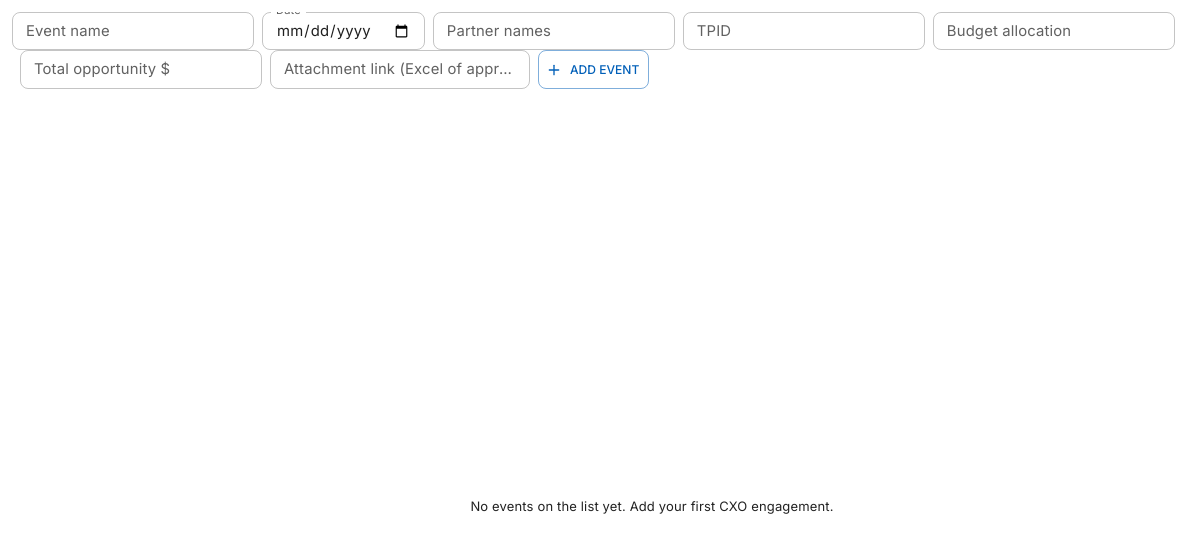
Test: QuarterlyEventsTile › blocks save with a friendly message for an invalid attachment link
The width and height of the screenshot is (1192, 544).
Type "CXO Dinner" into the field labelled "Event name" at (133, 31), box [12, 12, 254, 50]
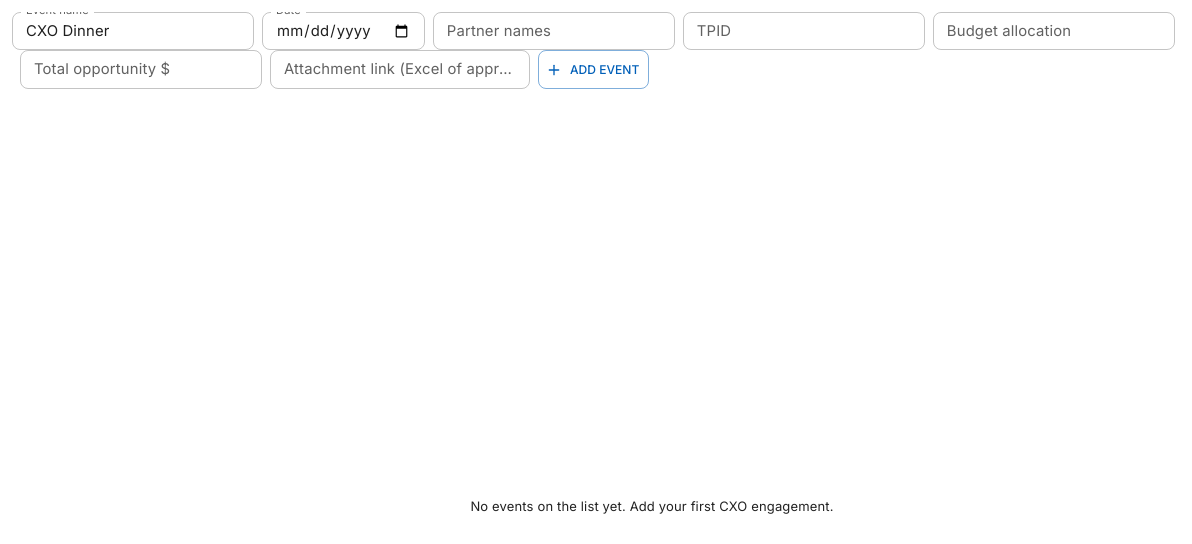
Type "2026-09-10" into the date field labelled "Date" at (343, 31), box [262, 12, 425, 50]
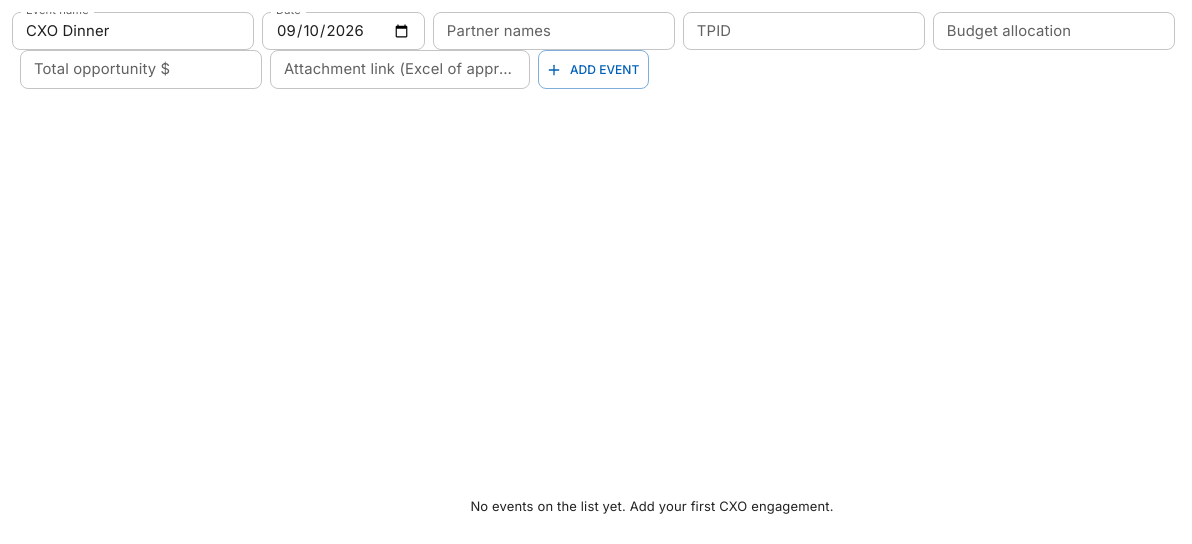
Type "javascript:alert(1)" into the field labelled "Attachment link (Excel of approved customers)" at (400, 69), box [270, 50, 530, 89]
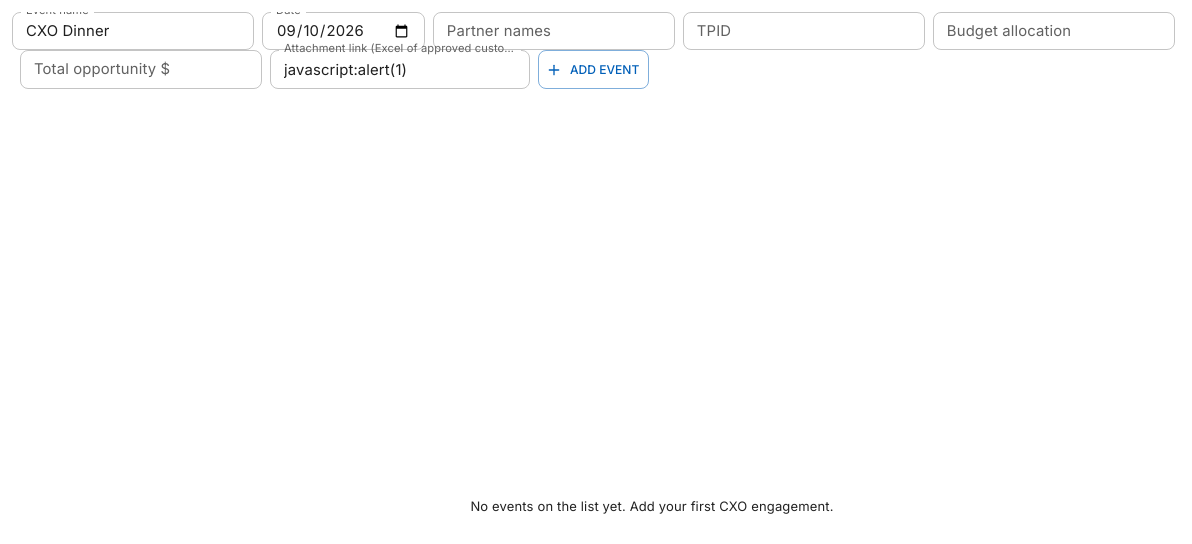
Click the button "Add event" at (594, 69), box [538, 50, 649, 89]
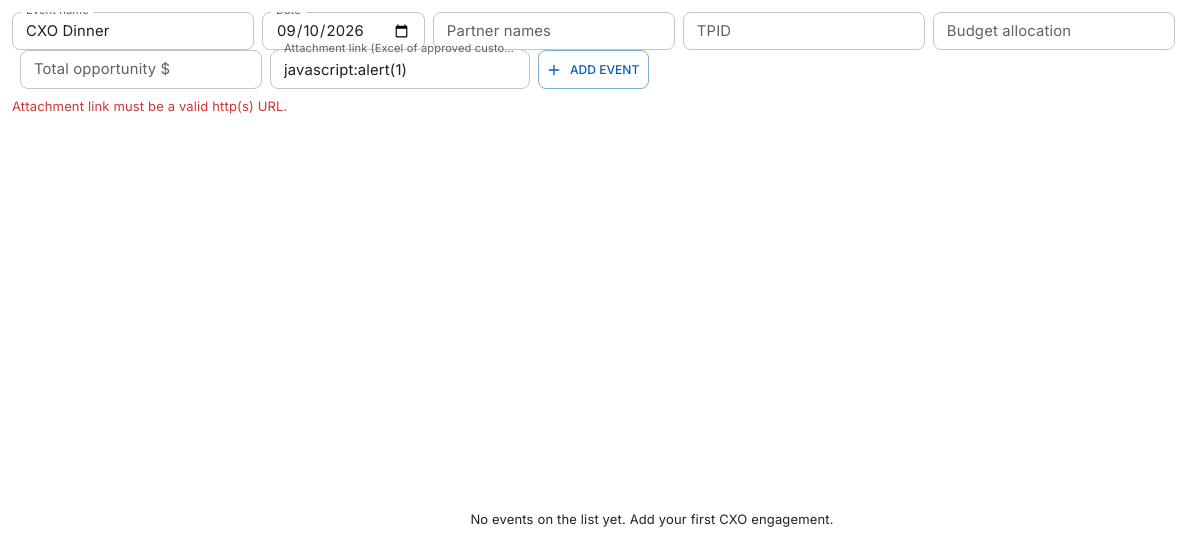
expect the text "Attachment link must be a valid http(s) URL." is shown: met, box [12, 98, 287, 114]
